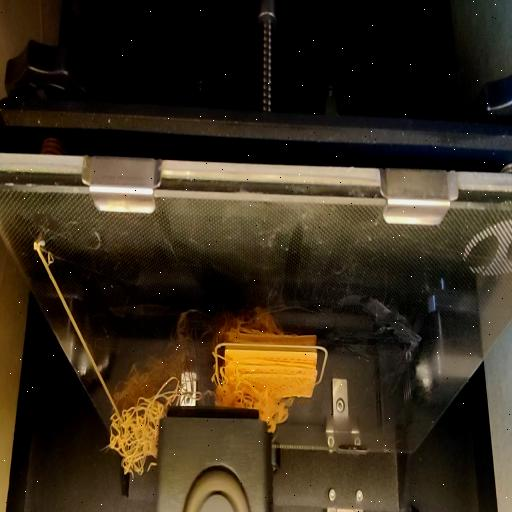spaghetti: (106, 388, 160, 480), (160, 378, 208, 416)
